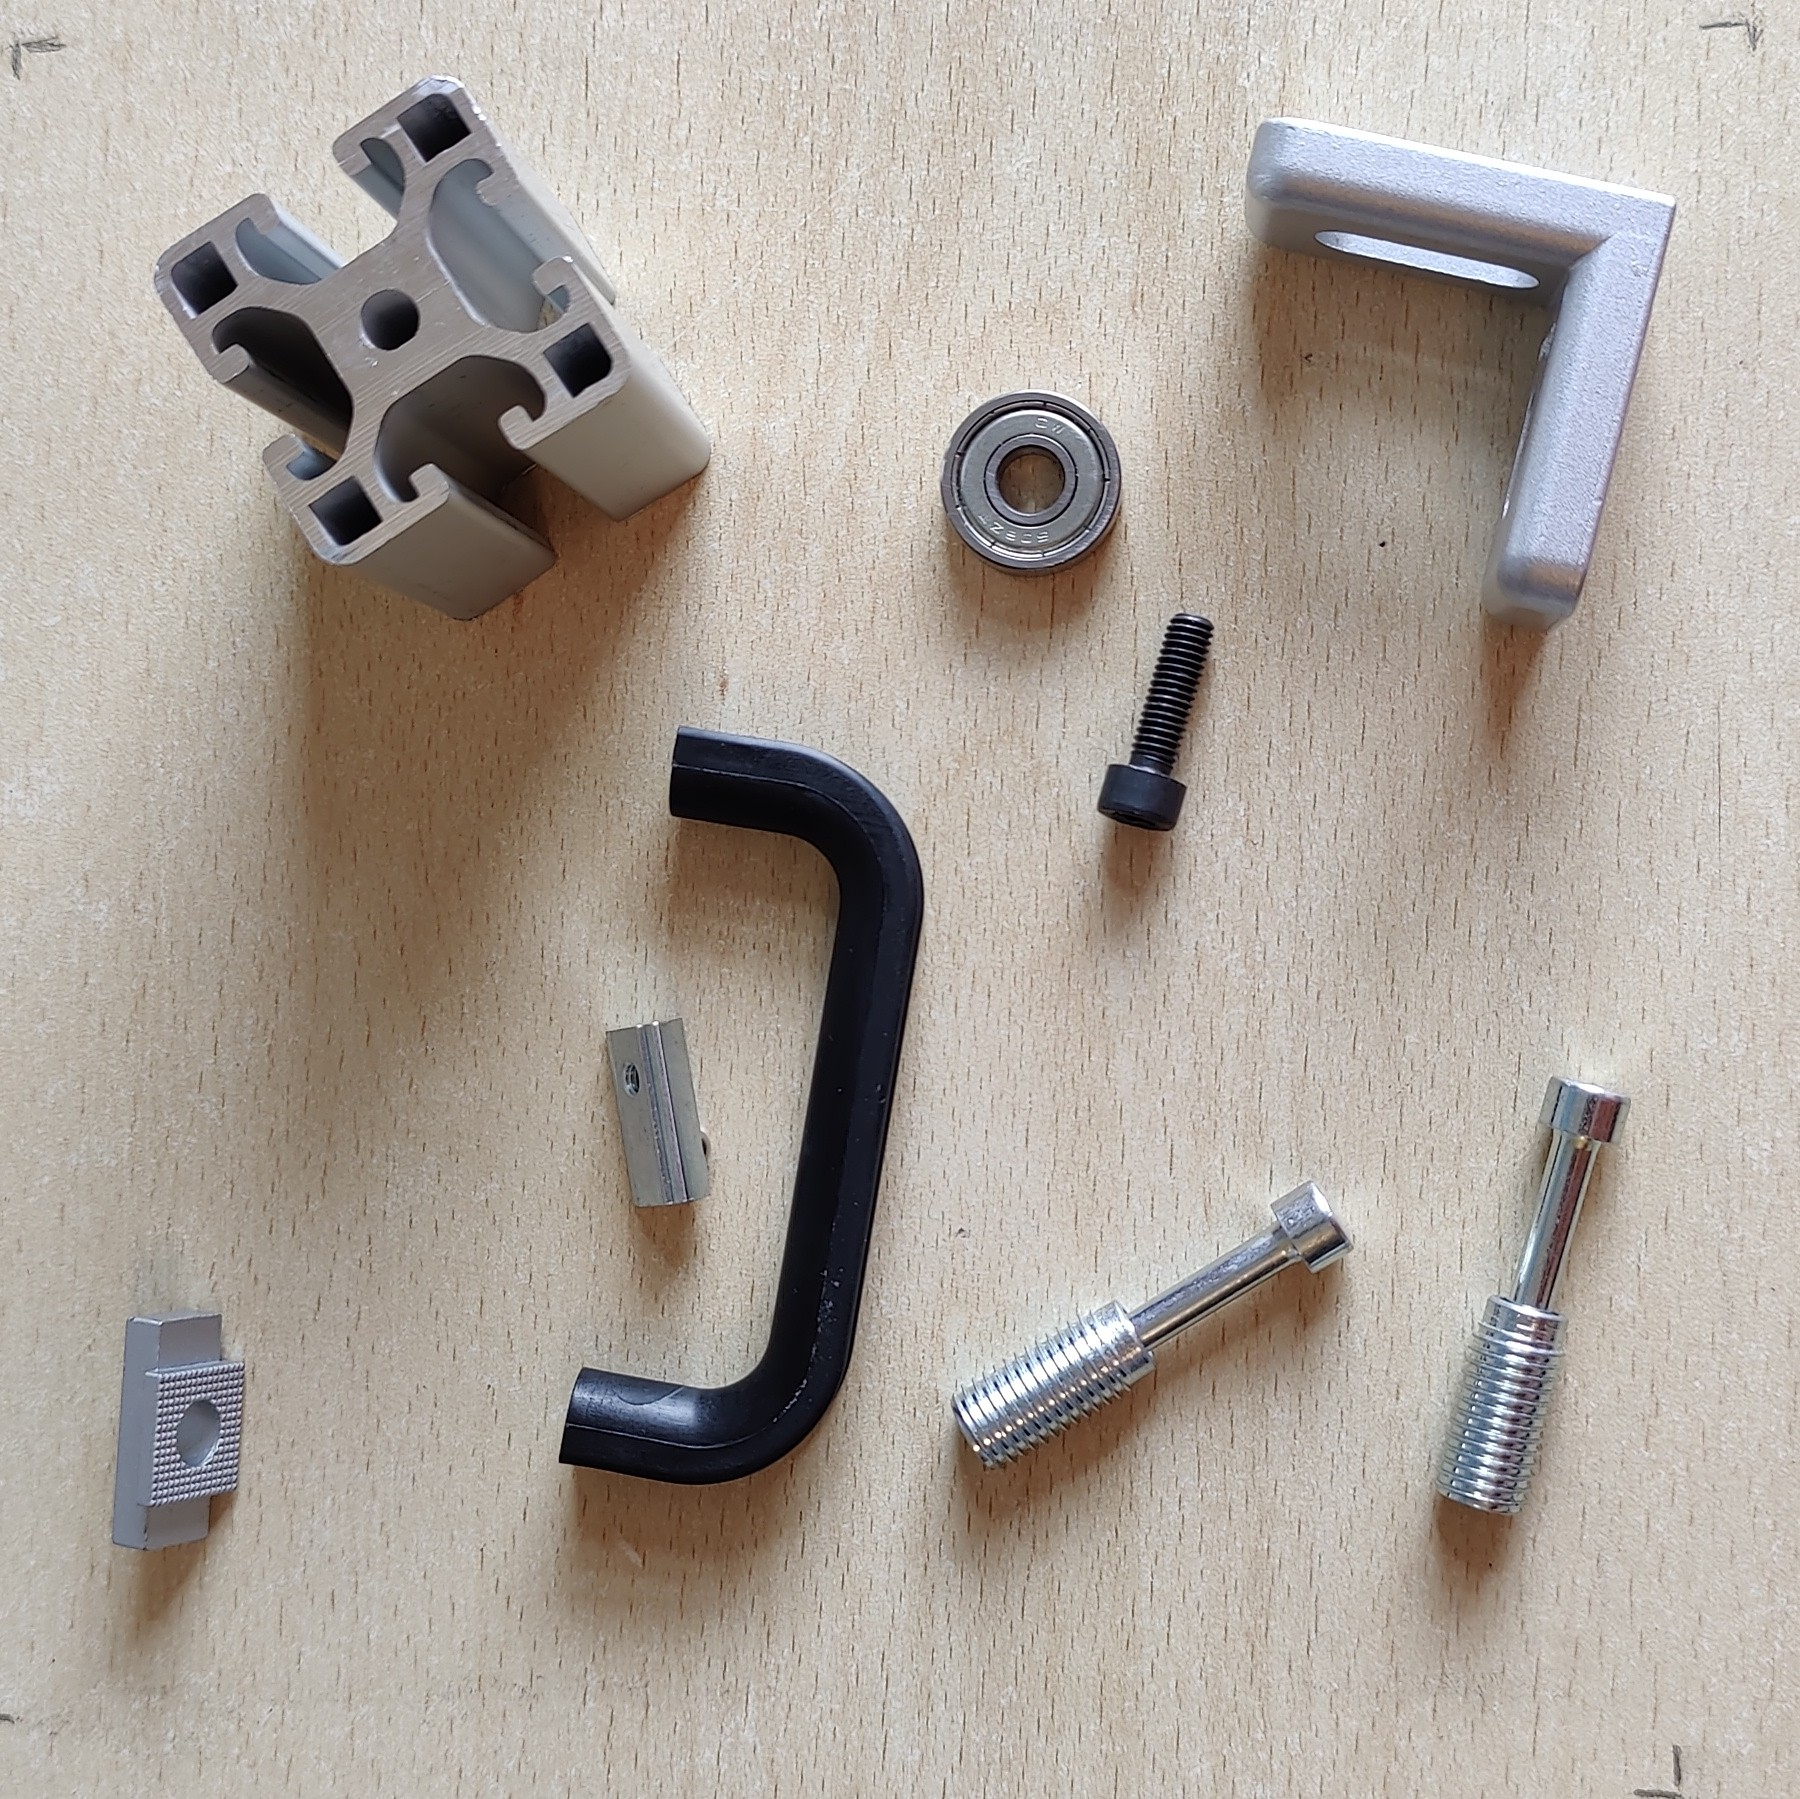Aluminium Extension: (150, 72, 716, 626)
Ball Bearing: (942, 389, 1126, 580)
Multiwinkel: (1242, 115, 1681, 638)
Pull Handle: (553, 722, 929, 1488)
Shoulder Socket Head Cap Screw: (949, 1176, 1355, 1471), (1433, 1072, 1634, 1517)
Socket Head Cap Screw: (1094, 610, 1217, 835)
T Nut Square: (109, 1303, 249, 1557)
T Spring Nut: (599, 1015, 715, 1211)
